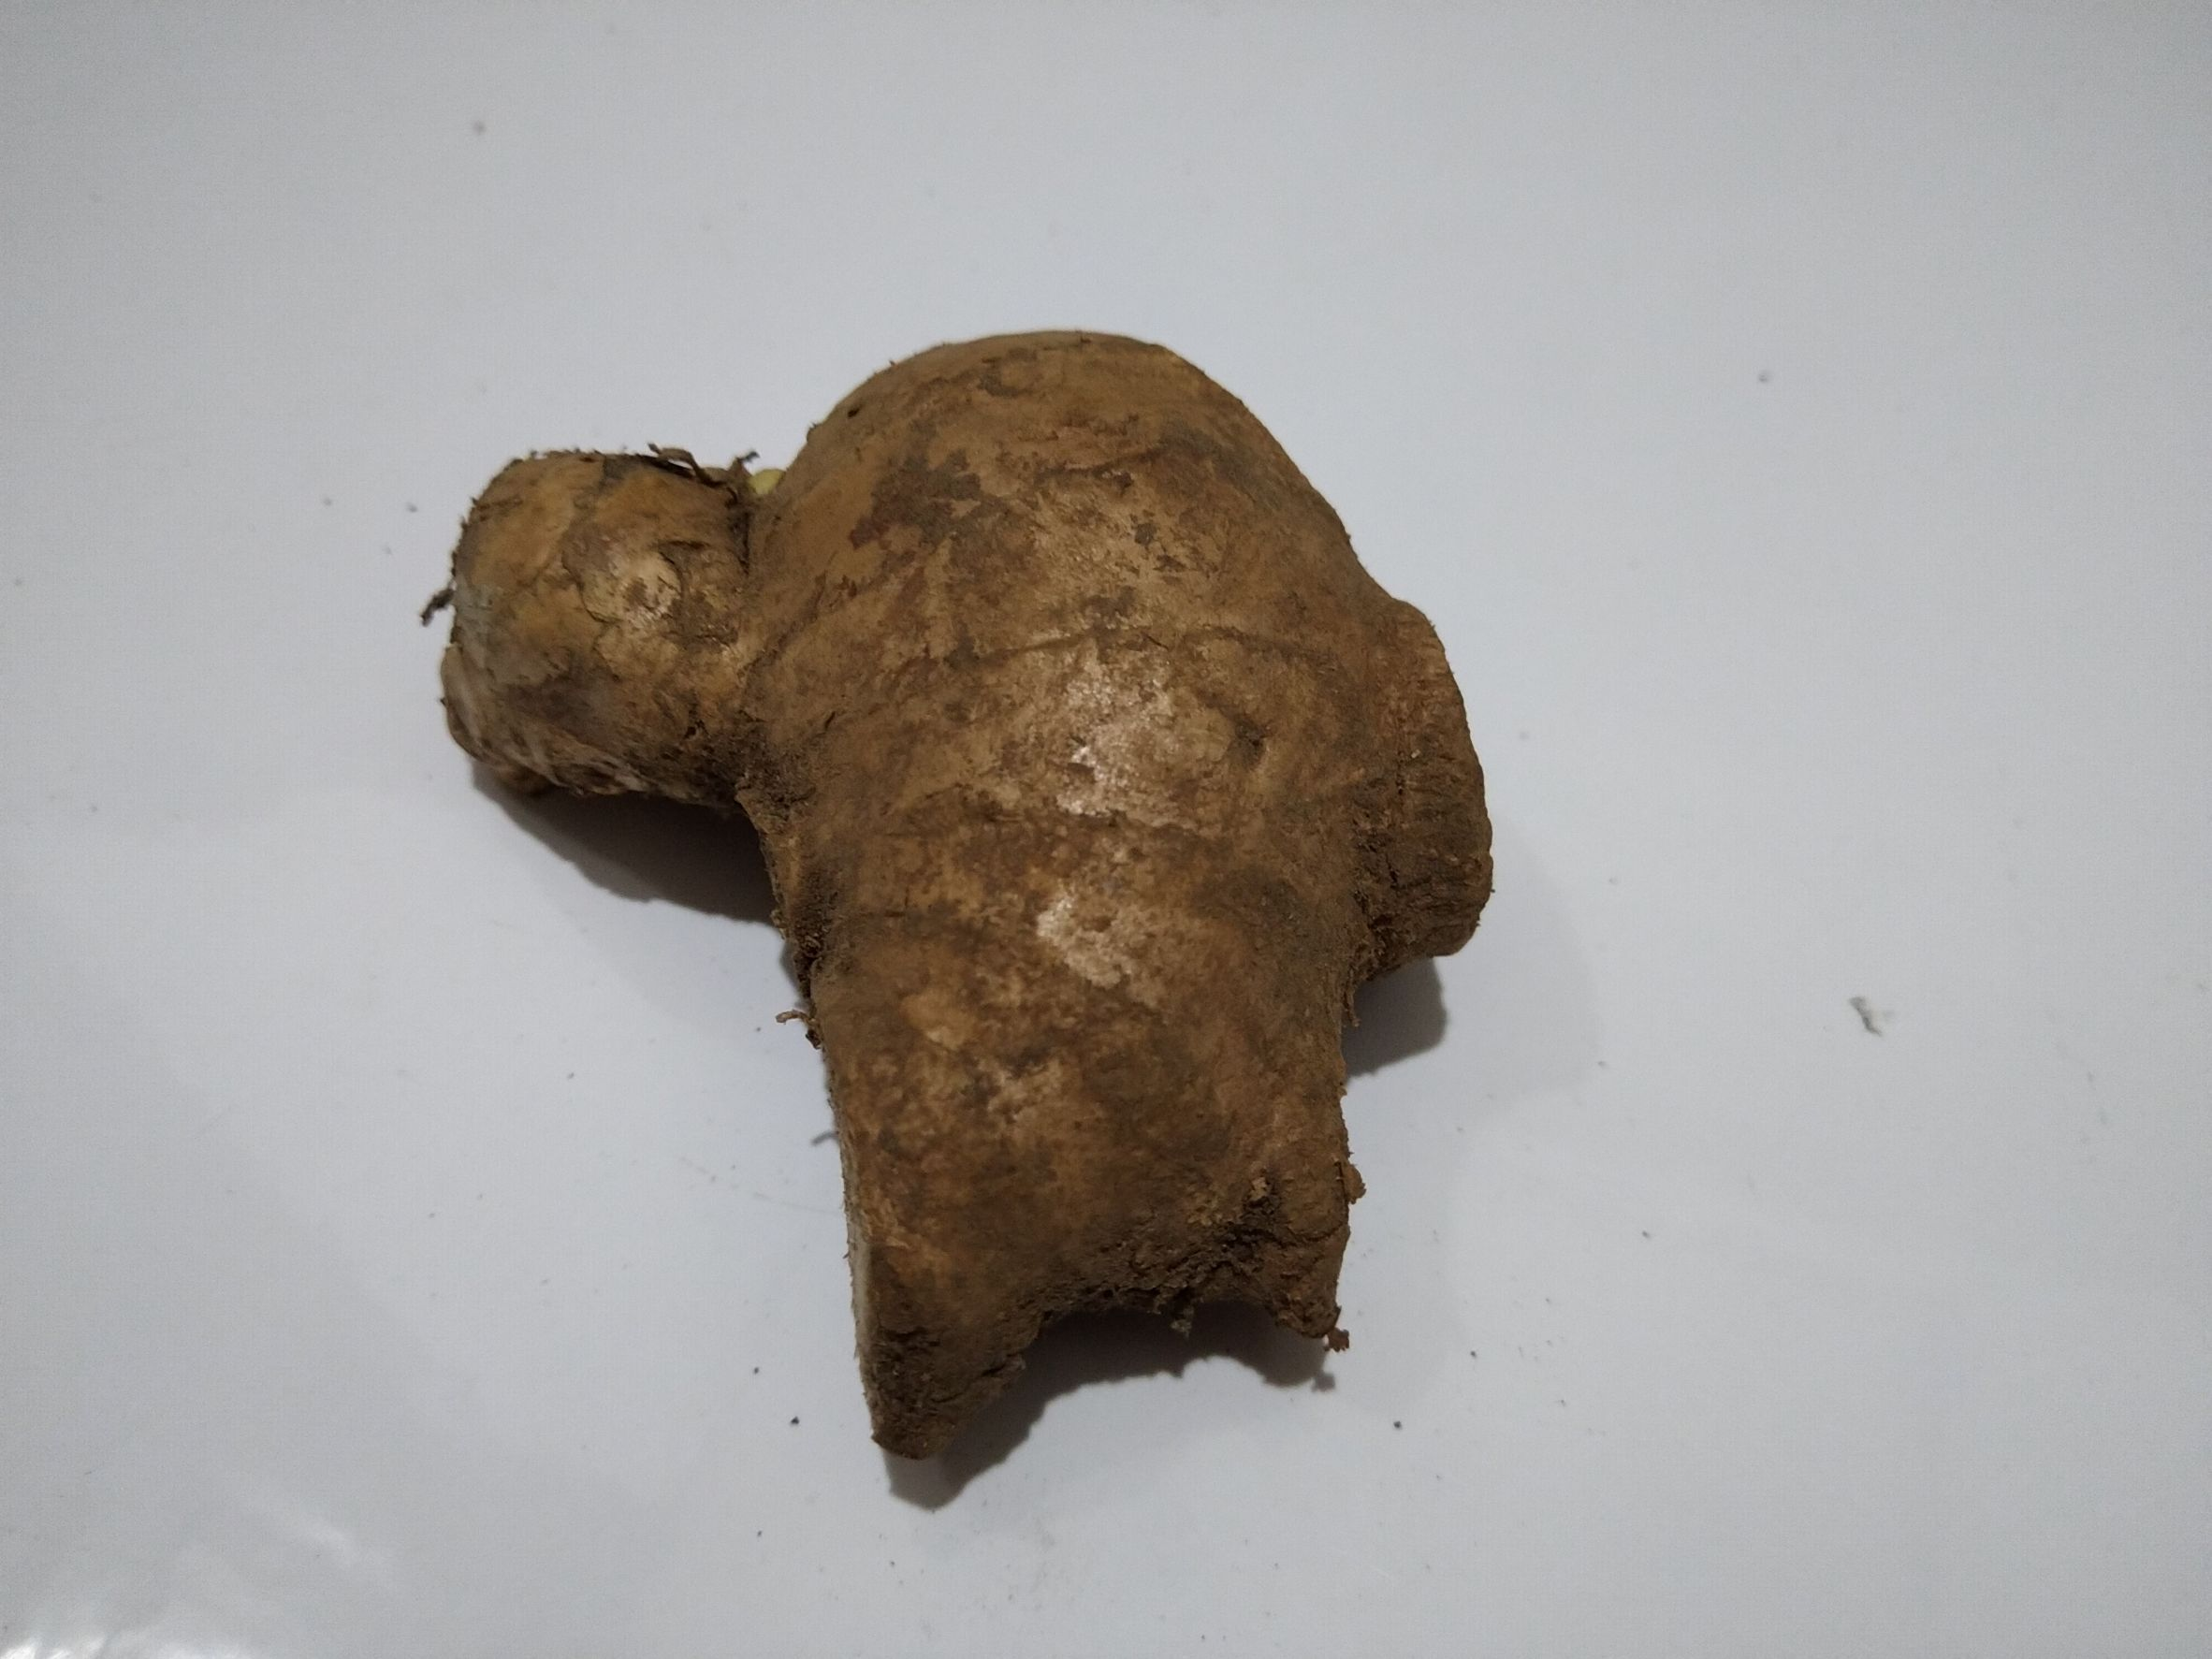Jahe: (423, 326, 1517, 1511)
